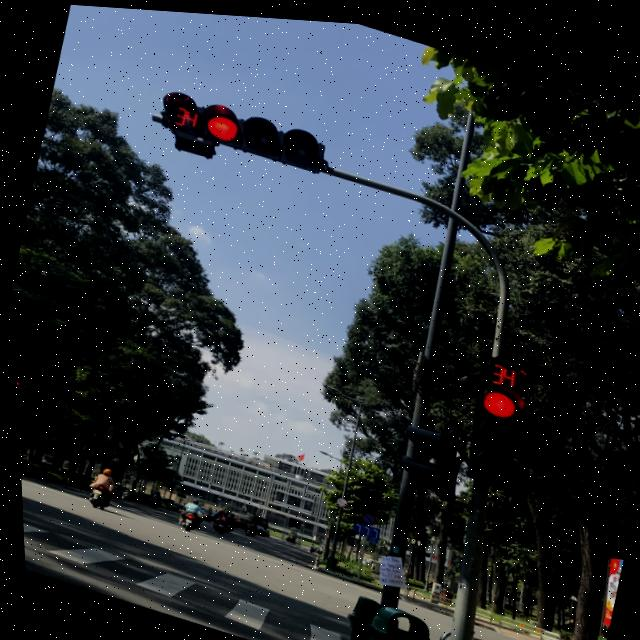Red: (187, 91, 334, 176), (448, 371, 537, 492)
